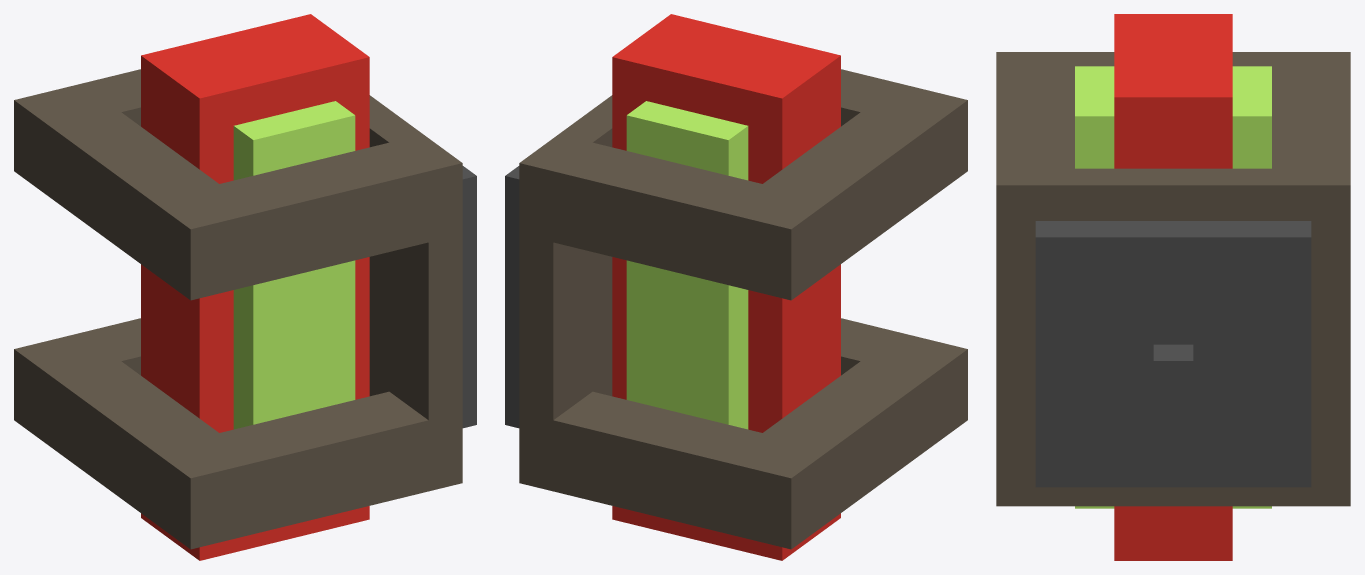
File: WeaponBattery#1.obj
3 renders of one model, left to right at view 1: azimuth 30°, elevation 25°; view 2: azimuth 150°, elevation 25°; view 3: azimuth 270°, elevation 25°, orthographic.
Bounding box in the file's own units: 1 × 1.3 × 0.9.
Materials: 1 (1 with a texture image).
